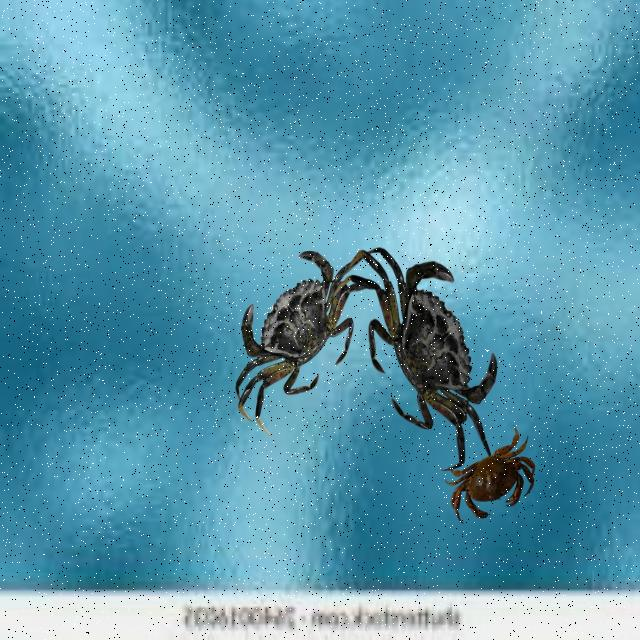European_Green_Crab: (315, 201, 532, 486), (206, 225, 379, 450)
